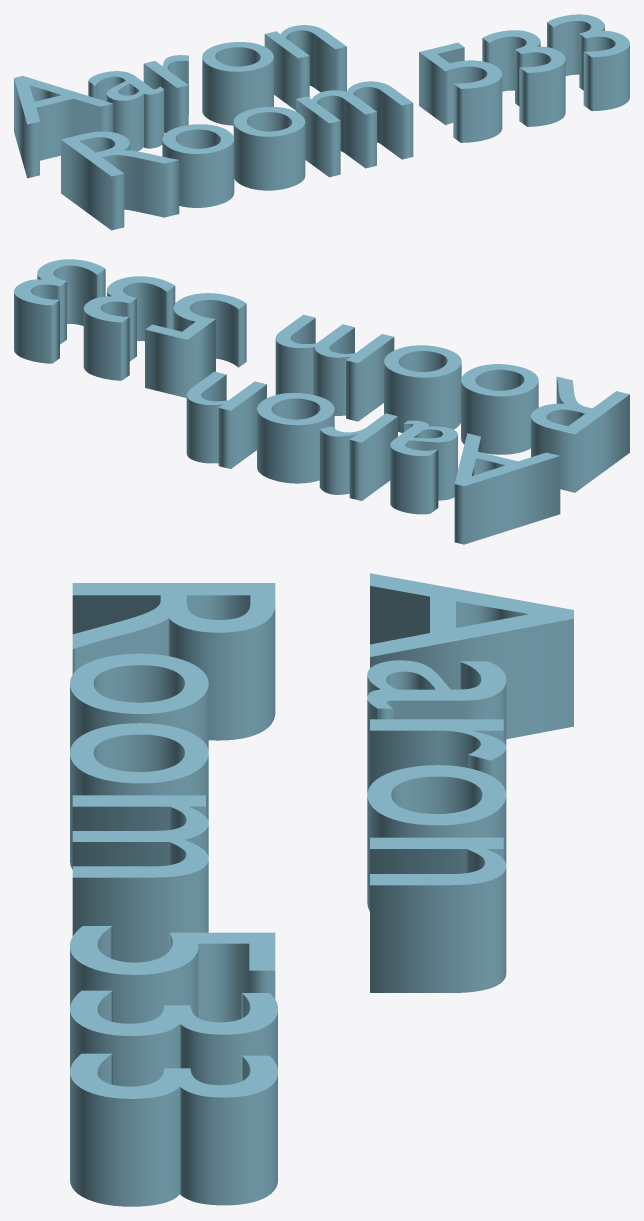
The model's file is aaron-533.gltf.
3 renders of one model, top to bottom at view 1: azimuth 30°, elevation 25°; view 2: azimuth 150°, elevation 25°; view 3: azimuth 270°, elevation 25°, orthographic. The views are drawn at different scales.
Visible parts, largest first — view 1: Text; view 2: Text; view 3: Text.
Part boxes in pixels (box(x1,y1,x2,y2)): Text: box(14, 14, 629, 230); Text: box(14, 259, 629, 544); Text: box(70, 573, 573, 1206).
Bounding box in the file's own units: 4.18 × 0.4 × 1.69.
